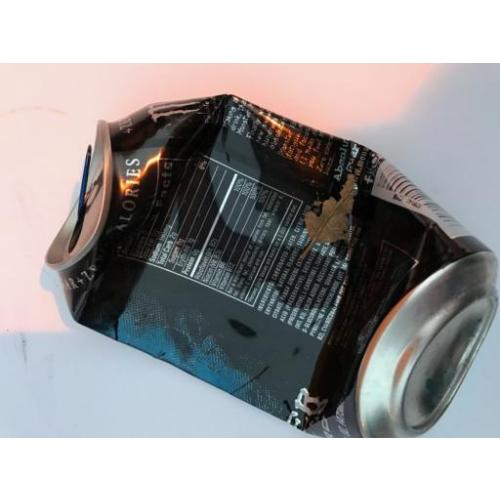metal: (59, 91, 496, 435)
